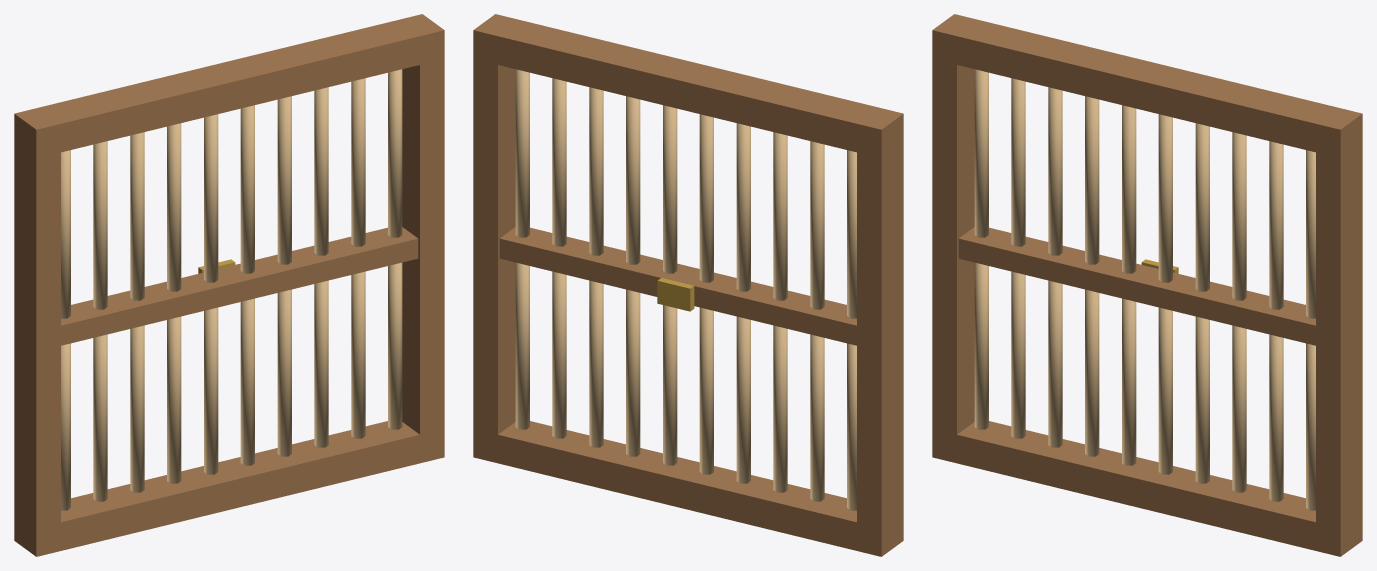
File: puerta_barrotes.glb
3 views of the same model, side by side, from view 1: azimuth 30°, elevation 25°; view 2: azimuth 150°, elevation 25°; view 3: azimuth 330°, elevation 25° (orthographic).
Visible parts, largest first — view 1: puerta_barrotes; view 2: puerta_barrotes; view 3: puerta_barrotes.
Boxes of the visible parts, x1,y1,x2,y2 form: puerta_barrotes: (14,14,444,556); puerta_barrotes: (473,14,903,556); puerta_barrotes: (932,14,1362,556).
Size of the model in its own units: 2.98 by 2.98 by 0.325.
